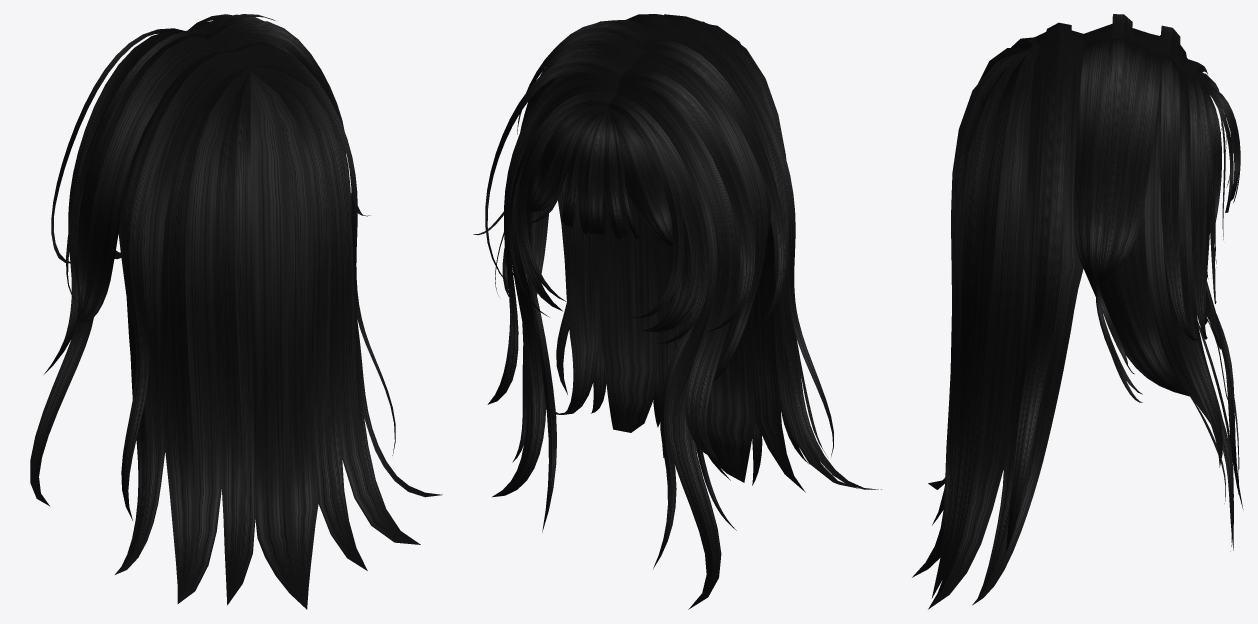
The picture shows the model from 3 angles, left to right: view 1: azimuth 30°, elevation 25°; view 2: azimuth 150°, elevation 25°; view 3: azimuth 270°, elevation 25°; orthographic projection. The views are drawn at different scales.
Parts seen in each view (by area): view 1: geometry_0; view 2: geometry_0; view 3: geometry_0.
Boxes of the visible parts, x1,y1,x2,y2 form: geometry_0: (30, 14, 442, 609); geometry_0: (473, 14, 881, 609); geometry_0: (912, 14, 1243, 609).
Size of the model in its own units: 2.17 by 3.22 by 1.77.
Materials: 1 (1 with a texture image).
